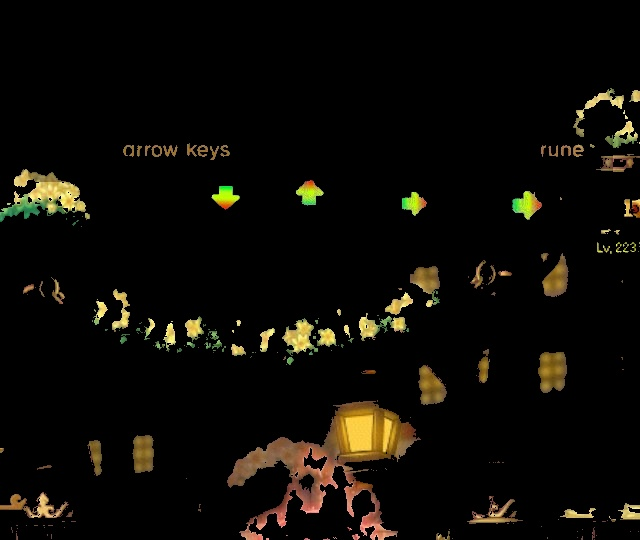down: (205, 179, 246, 219)
right: (504, 183, 547, 225), (392, 187, 434, 222)
up: (287, 174, 332, 213)
